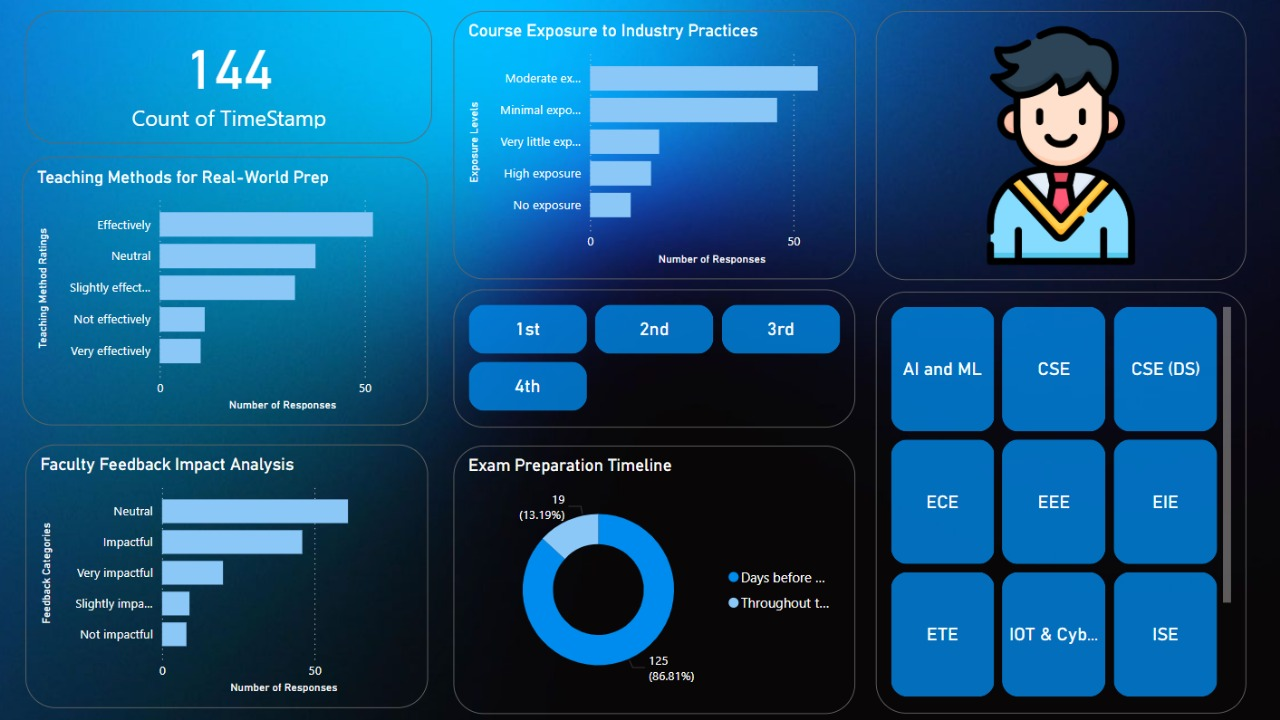

This screenshot's page, from the dashboard's own definition file:
{"tool":"powerbi","page":{"name":"Page 1","canvas":[1280,720],"ordinal":4},"visuals":[{"type":"donutChart","title":"Exam Preparation Timeline","fields":{"Category":["StudentData.ExamPrepStartTime"],"Y":["CountNonNull(StudentData.ExamPrepStartTime)"]},"box":[452.8,445.3,400.6,267.5],"z":0},{"type":"clusteredBarChart","title":"Faculty Feedback Impact Analysis","fields":{"Y":["CountNonNull(StudentData.FacFeedbackImpact)"],"Category":["StudentData.FacFeedbackImpact"]},"box":[27.4,445.3,400.6,262.5],"z":1000},{"type":"clusteredBarChart","title":"Teaching Methods for Real-World Prep","fields":{"Y":["CountNonNull(StudentData.TeachingMethods_RealWorld_Prep)"],"Category":["StudentData.TeachingMethods_RealWorld_Prep"]},"box":[27.4,159.2,404.3,267.5],"z":2000},{"type":"clusteredBarChart","title":"Course Exposure to Industry Practices","fields":{"Y":["CountNonNull(StudentData.CourseExposure_to_IndustryPractices)"],"Category":["StudentData.CourseExposure_to_IndustryPractices"]},"box":[452.8,159.2,400.6,267.5],"z":3000}]}

Visuals, with their boxes in screenshot pixels (x1, y1, x2, y2), scaled from the page's 1280x720 canvas onto the 1280x720 screenshot:
"Exam Preparation Timeline" donutChart: 453:445:853:713
"Faculty Feedback Impact Analysis" clusteredBarChart: 27:445:428:708
"Teaching Methods for Real-World Prep" clusteredBarChart: 27:159:432:427
"Course Exposure to Industry Practices" clusteredBarChart: 453:159:853:427
